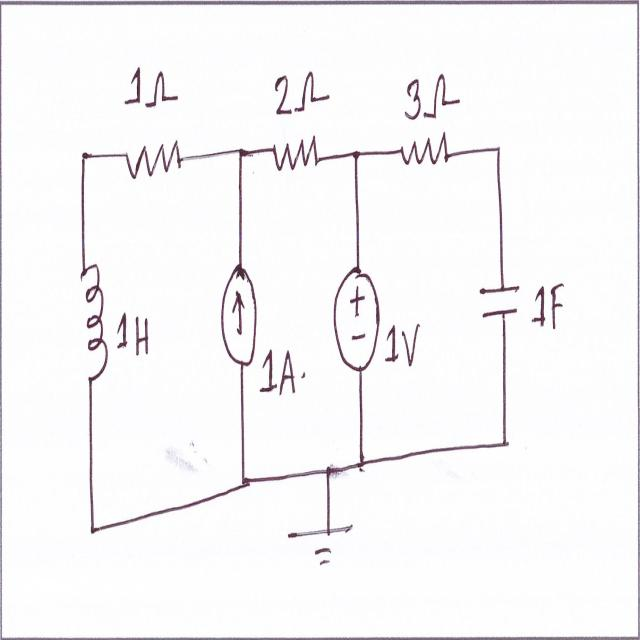capacitor: (476, 271, 523, 331)
current_source: (217, 255, 259, 372)
ground: (286, 515, 358, 576)
inductor: (77, 252, 111, 397)
resistor: (120, 125, 186, 187), (396, 118, 454, 178), (268, 126, 320, 182)
voltage_source: (331, 258, 384, 381)
